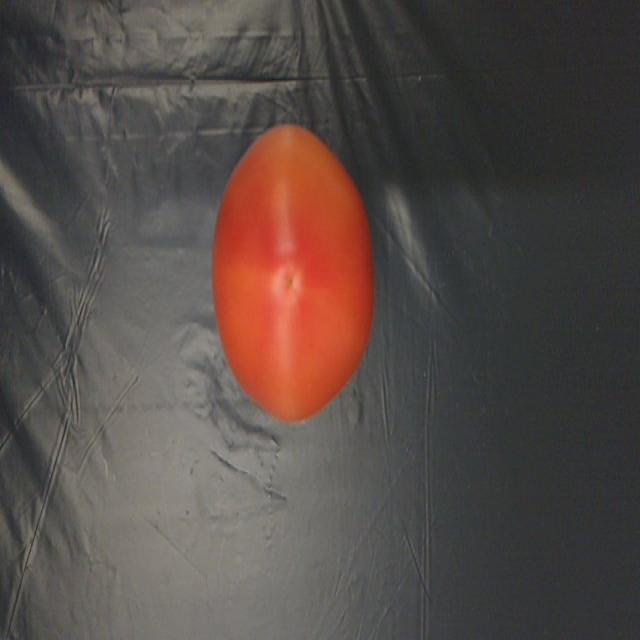kirmizi: (187, 107, 387, 453)
